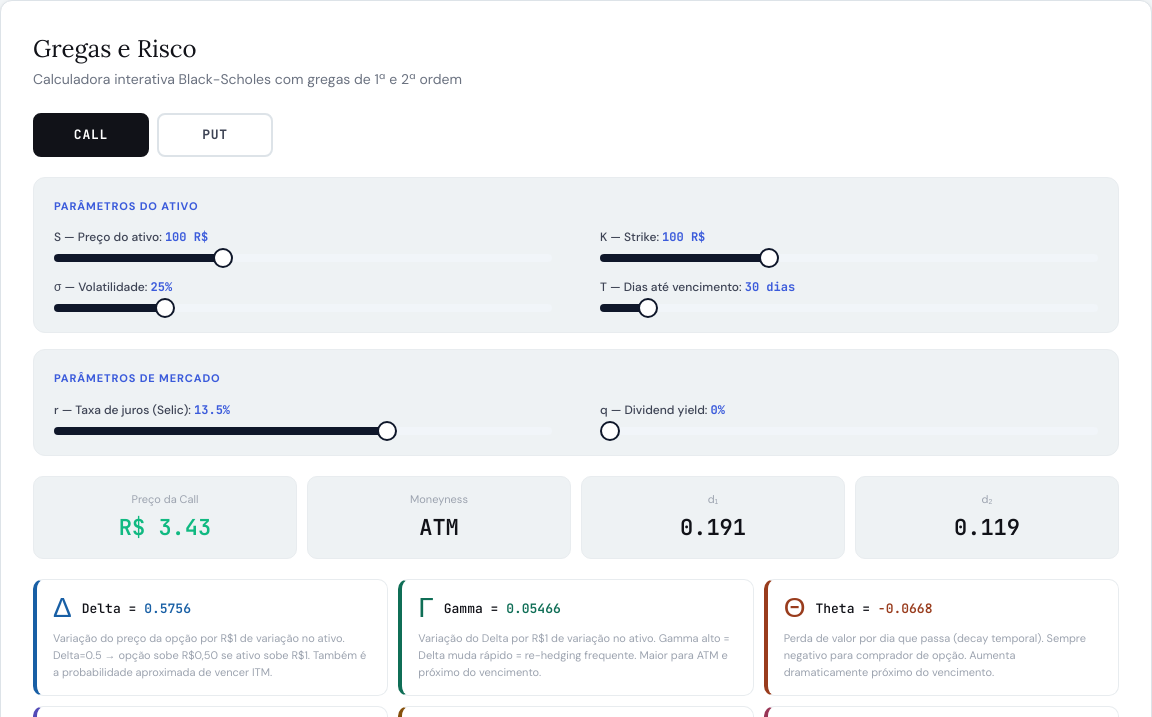
Test: GreeksCalculator › ao clicar em PUT troca o resumo para "Preço da Put"
Click the button "PUT".
click(215, 135)  # box x1=157 y1=113 x2=273 y2=156
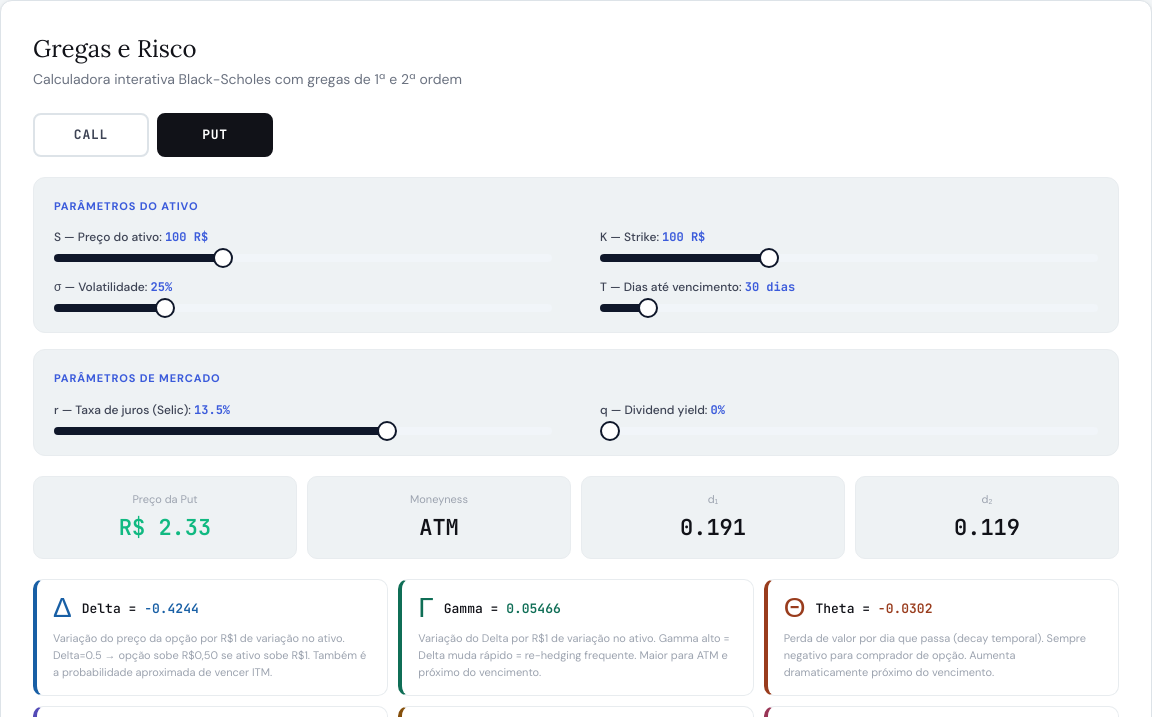
Expected: the text "Preço da Put" is shown, x1=132 y1=492 x2=198 y2=506
Expected: the text "Preço da Call" is gone
